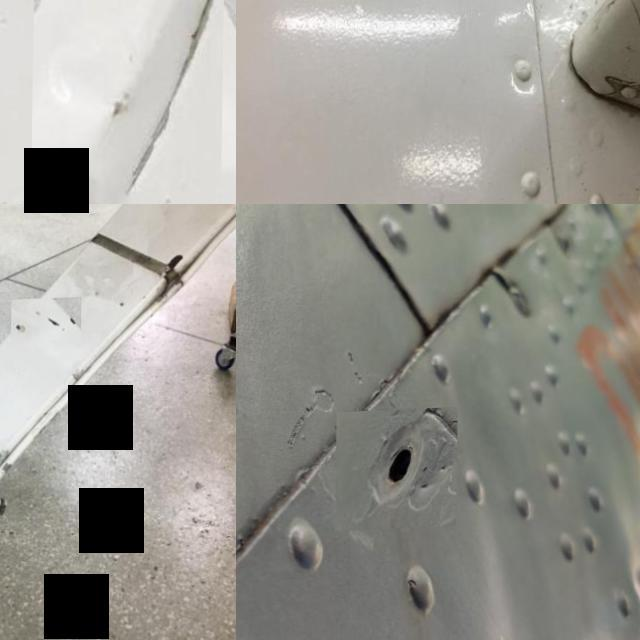Crack: (12, 301, 82, 351)
Dent: (53, 0, 203, 204)
Missing_Fastener: (336, 411, 458, 534)
